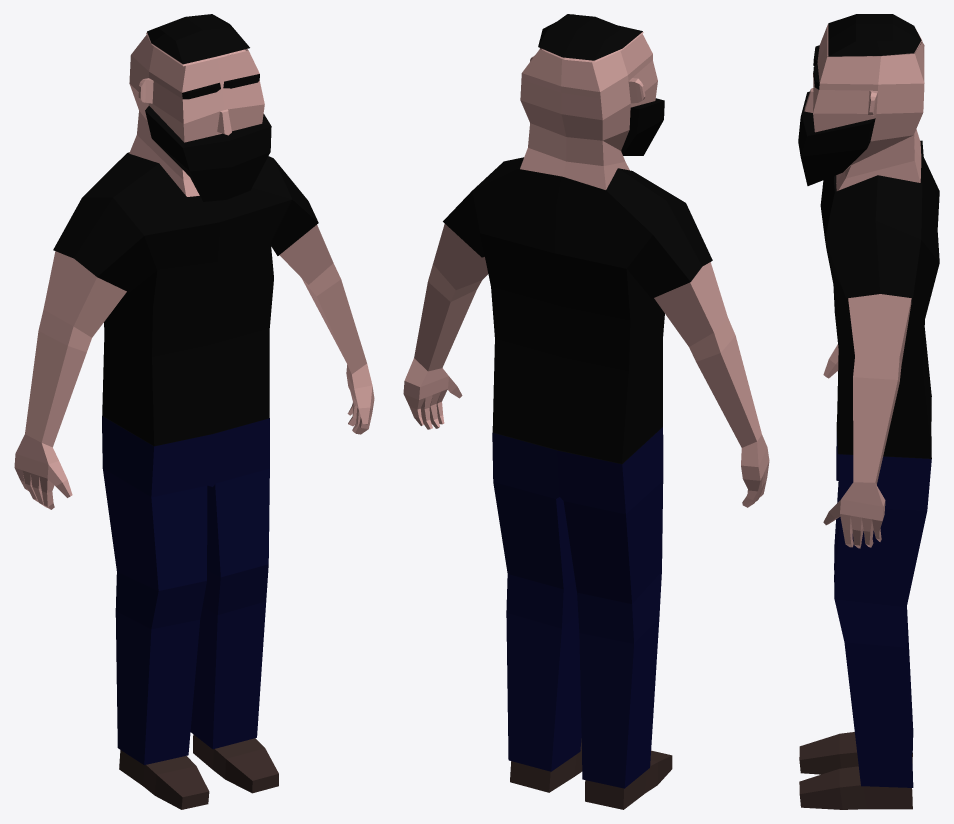
File: character.fbx
3 views of the same model, side by side, from view 1: azimuth 30°, elevation 25°; view 2: azimuth 150°, elevation 25°; view 3: azimuth 270°, elevation 25° (orthographic).
Visible parts, largest first — view 1: Cube.002; view 2: Cube.002; view 3: Cube.002.
Boxes of the visible parts, bbox=[...] form: Cube.002: bbox=[14, 14, 374, 809]; Cube.002: bbox=[403, 14, 769, 809]; Cube.002: bbox=[798, 14, 939, 809].
Bounding box in the file's own units: 168 × 343 × 57.88.
